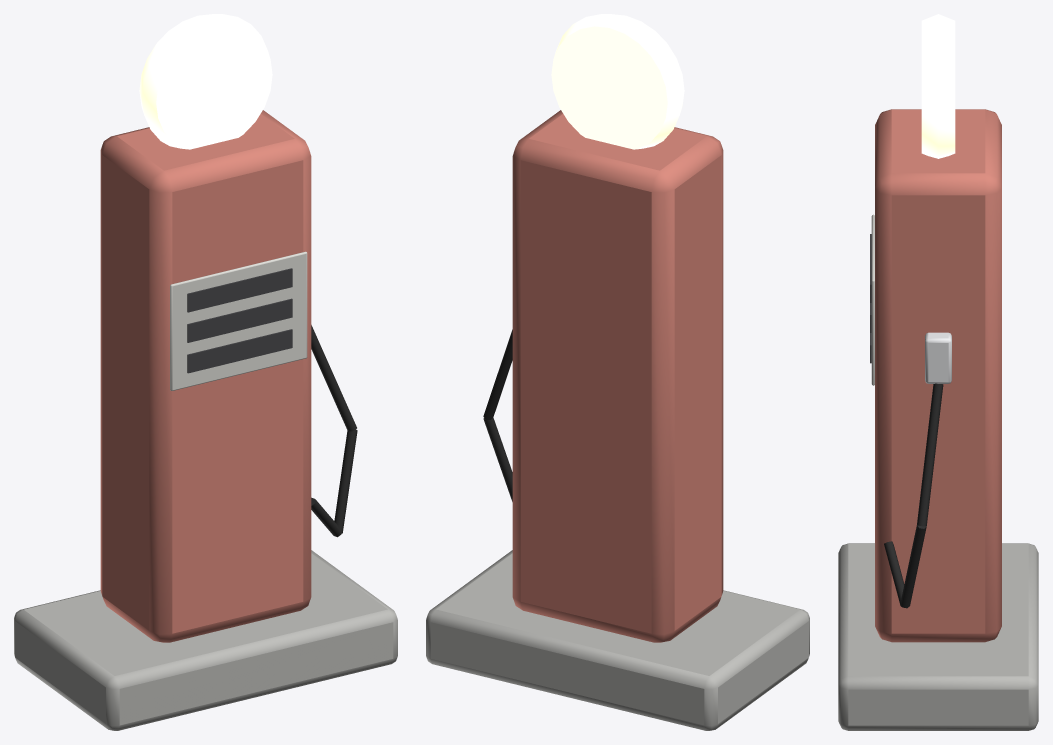
File: gas_pump.glb
3 renders of one model, left to right at view 1: azimuth 30°, elevation 25°; view 2: azimuth 150°, elevation 25°; view 3: azimuth 270°, elevation 25°, orthographic.
Visible parts, largest first — view 1: gas_pump; view 2: gas_pump; view 3: gas_pump.
Part boxes in pixels (box(x1,y1,x2,y2)): gas_pump: box(14, 14, 397, 730); gas_pump: box(426, 14, 809, 730); gas_pump: box(838, 14, 1038, 730).
Size of the model in its own units: 1 by 2.13 by 0.6.
